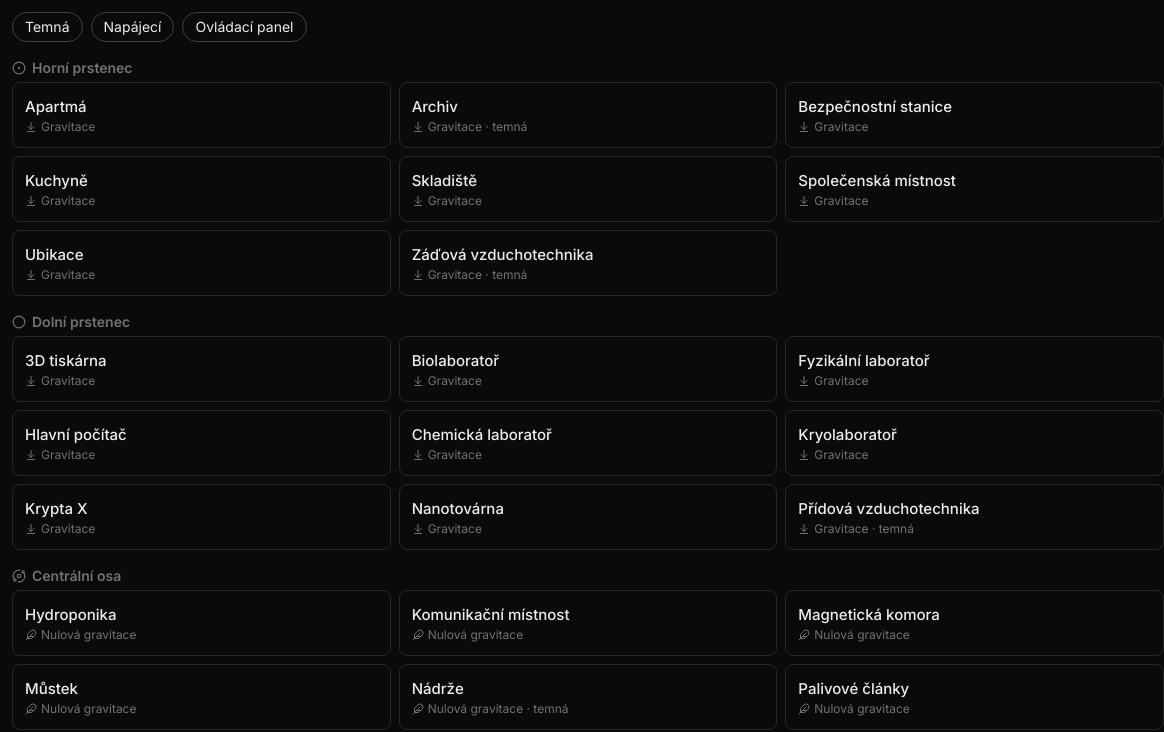
Scenario: SectionList › filters to dark sections
Click the button "Temná".
click(47, 27)  # box [12,12,82,42]
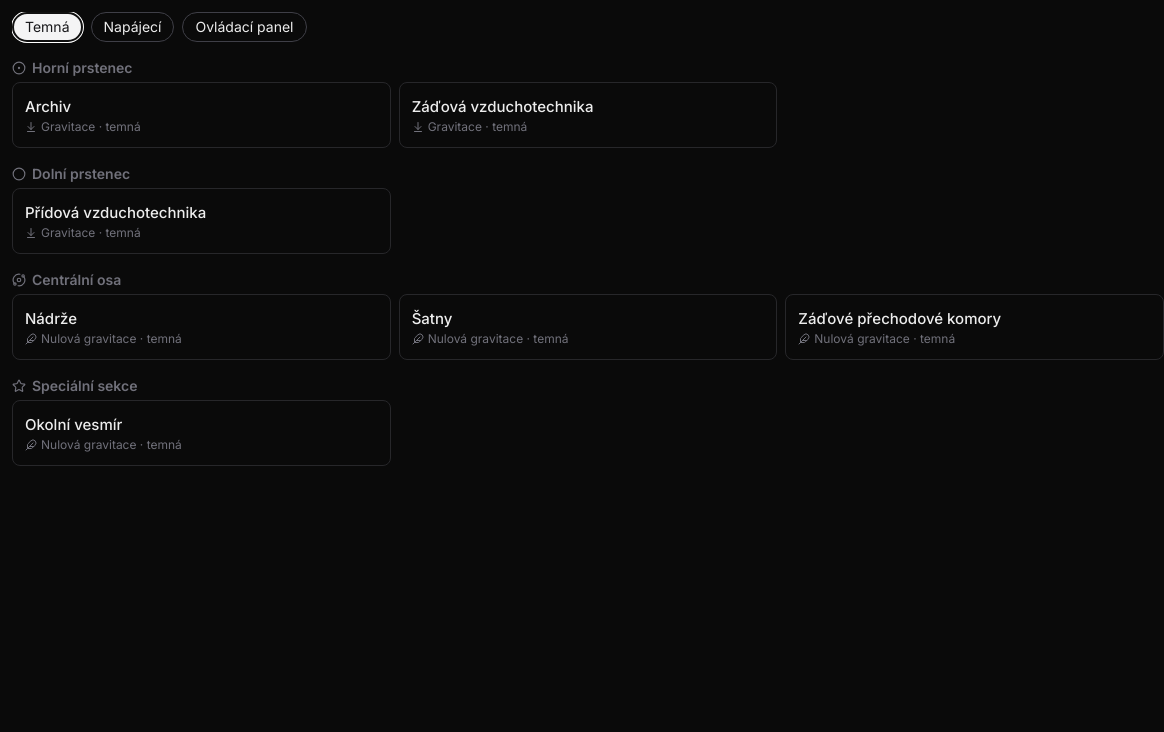
Expected: the number of links is 7
